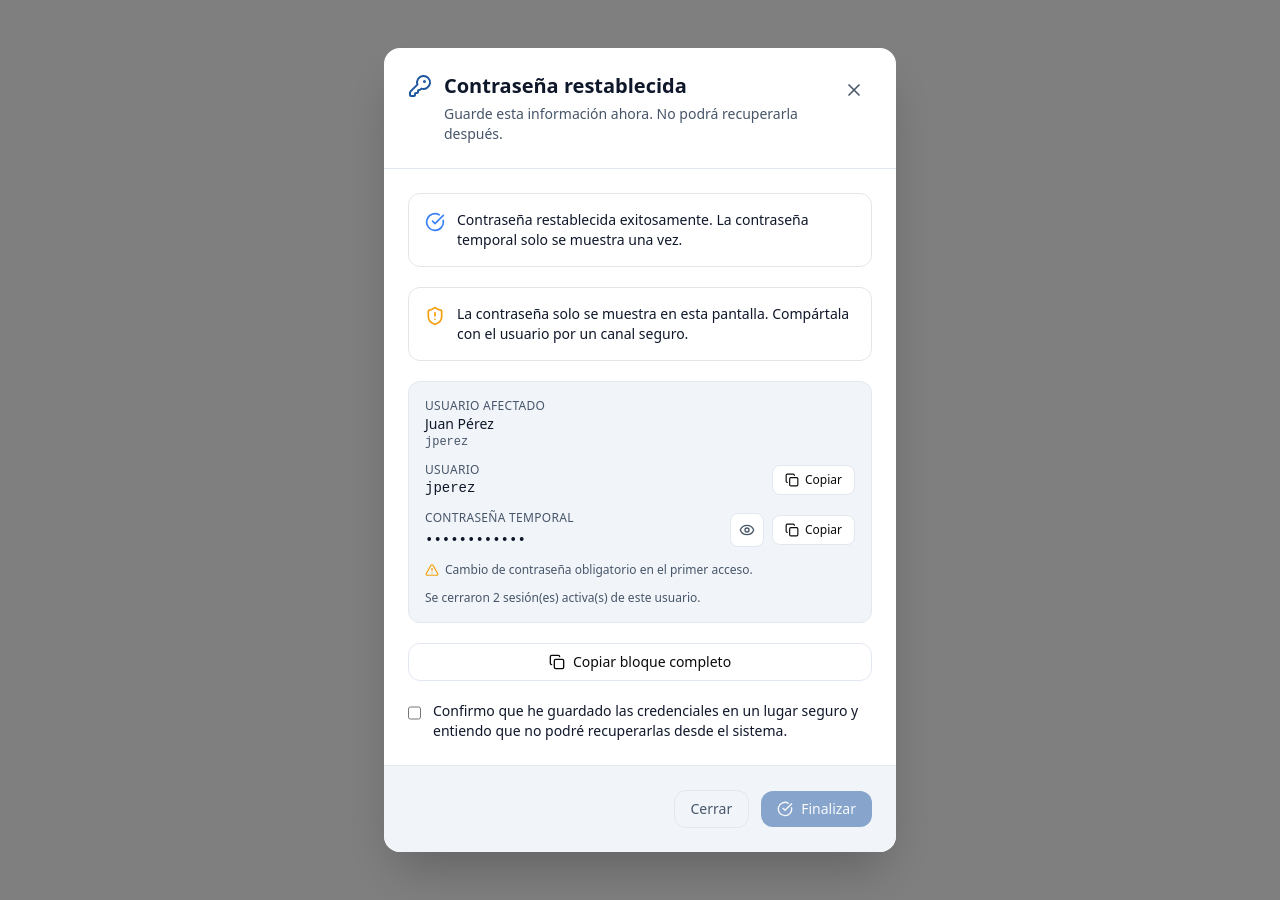
Test case: UserPasswordResetRevealDialog › requiere ack para Finalizar
Expected: the button "Finalizar" is disabled, [761, 791, 872, 827]
What coordinates should you click on to do the following:
click the checkbox labelled "Confirmo que he guardado las credenciales"
I would click on:
 (414, 713)
Its box is [408, 705, 421, 721].
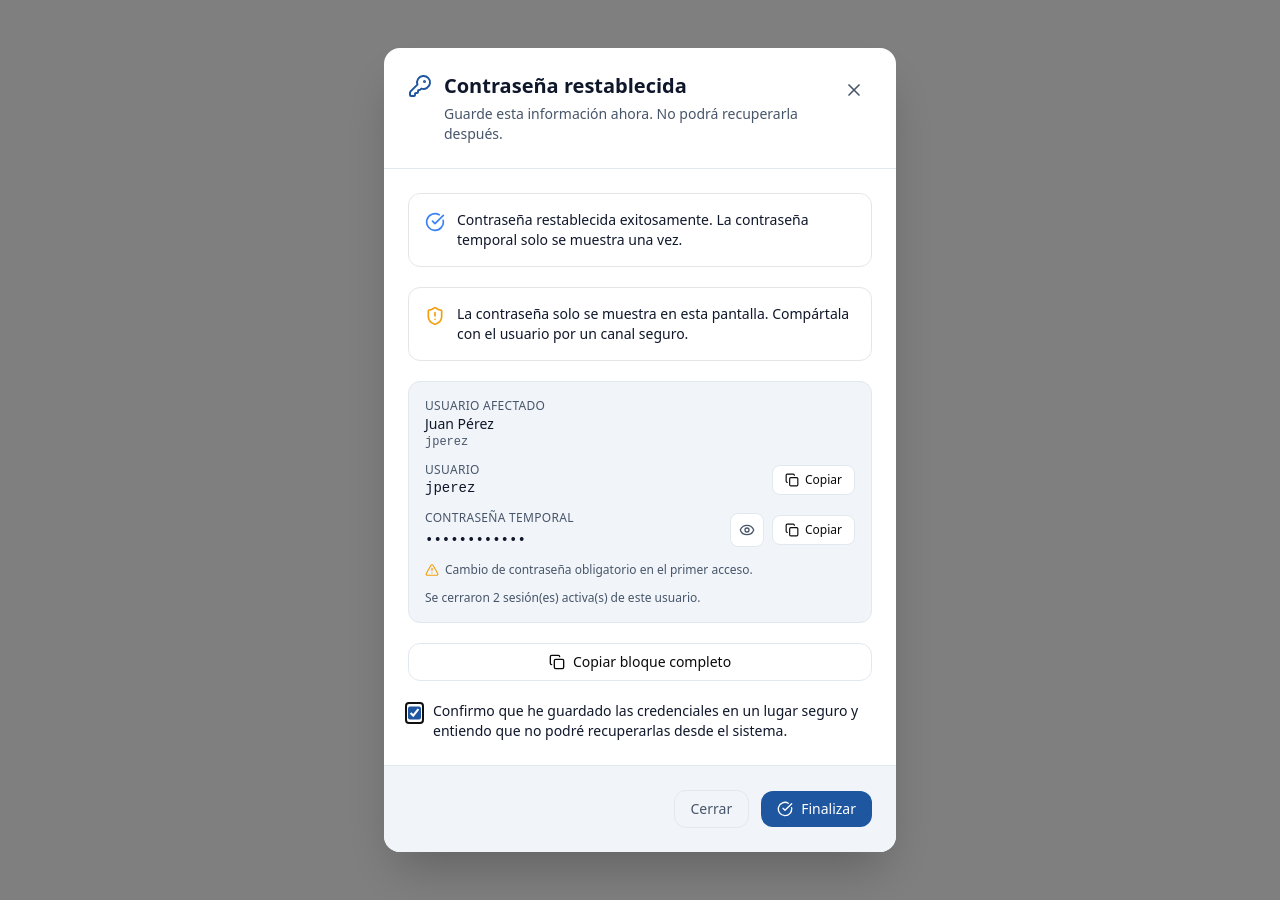
Result: the button "Finalizar" is enabled at [761, 791, 872, 827]
